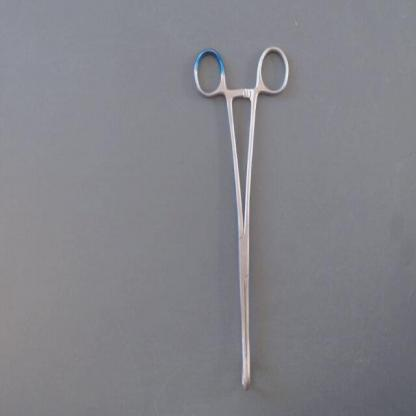Sponge Forceps: (188, 37, 297, 402)
